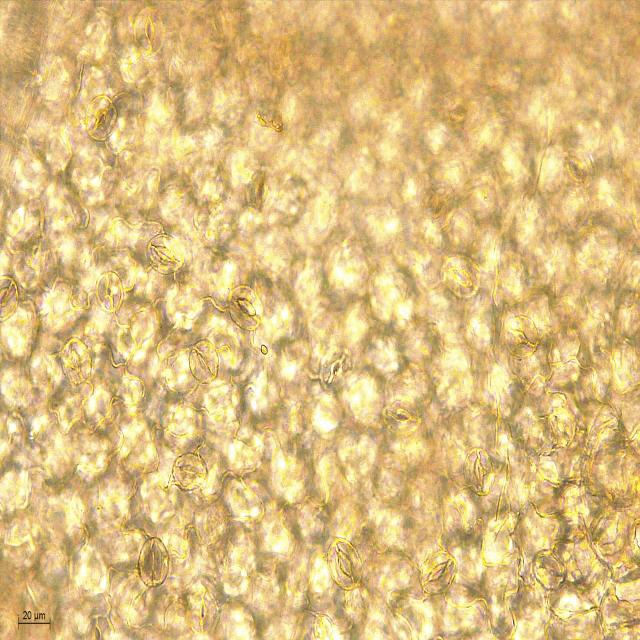Stomata: (324, 531, 366, 594), (419, 179, 463, 236), (415, 548, 461, 601), (437, 250, 483, 303), (556, 143, 599, 198), (529, 543, 570, 598), (501, 308, 542, 362), (316, 342, 358, 393), (226, 281, 264, 334), (57, 335, 94, 389), (145, 231, 187, 277), (83, 93, 121, 143), (133, 5, 168, 59), (136, 534, 171, 588), (463, 444, 497, 499), (245, 163, 280, 214), (186, 336, 220, 388), (381, 396, 424, 437), (170, 450, 210, 494), (92, 267, 126, 317), (186, 588, 220, 637), (544, 404, 577, 448), (0, 272, 22, 329)
